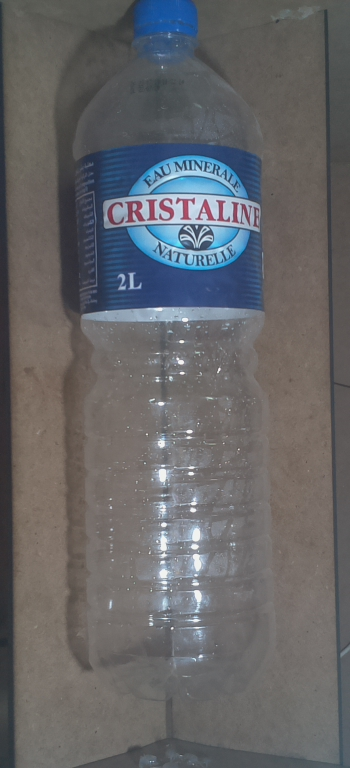Bouteille_2L: (65, 1, 283, 709)
